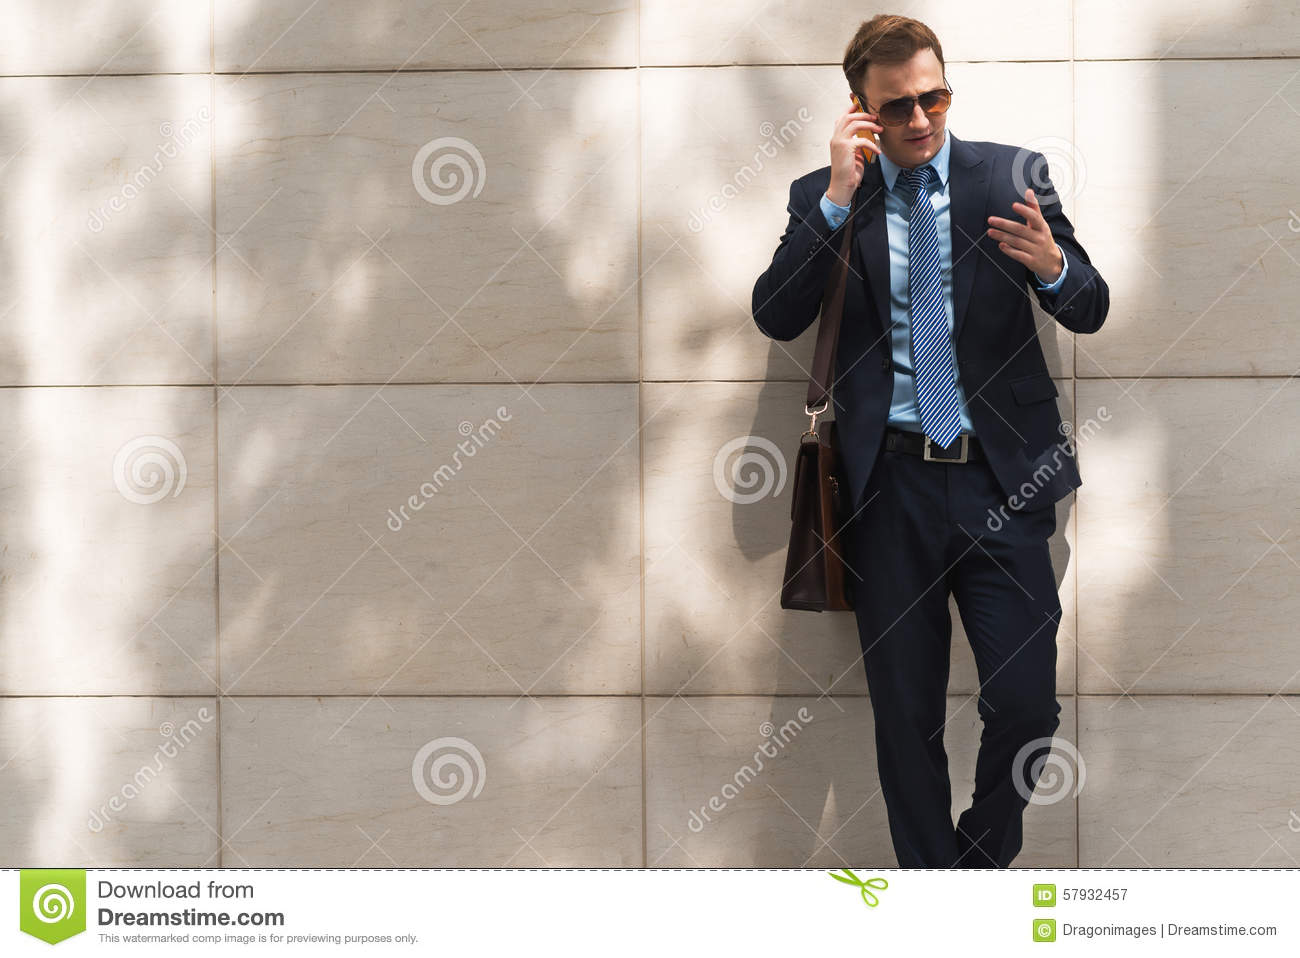phone: (851, 94, 880, 166)
talk: (830, 83, 947, 199)
